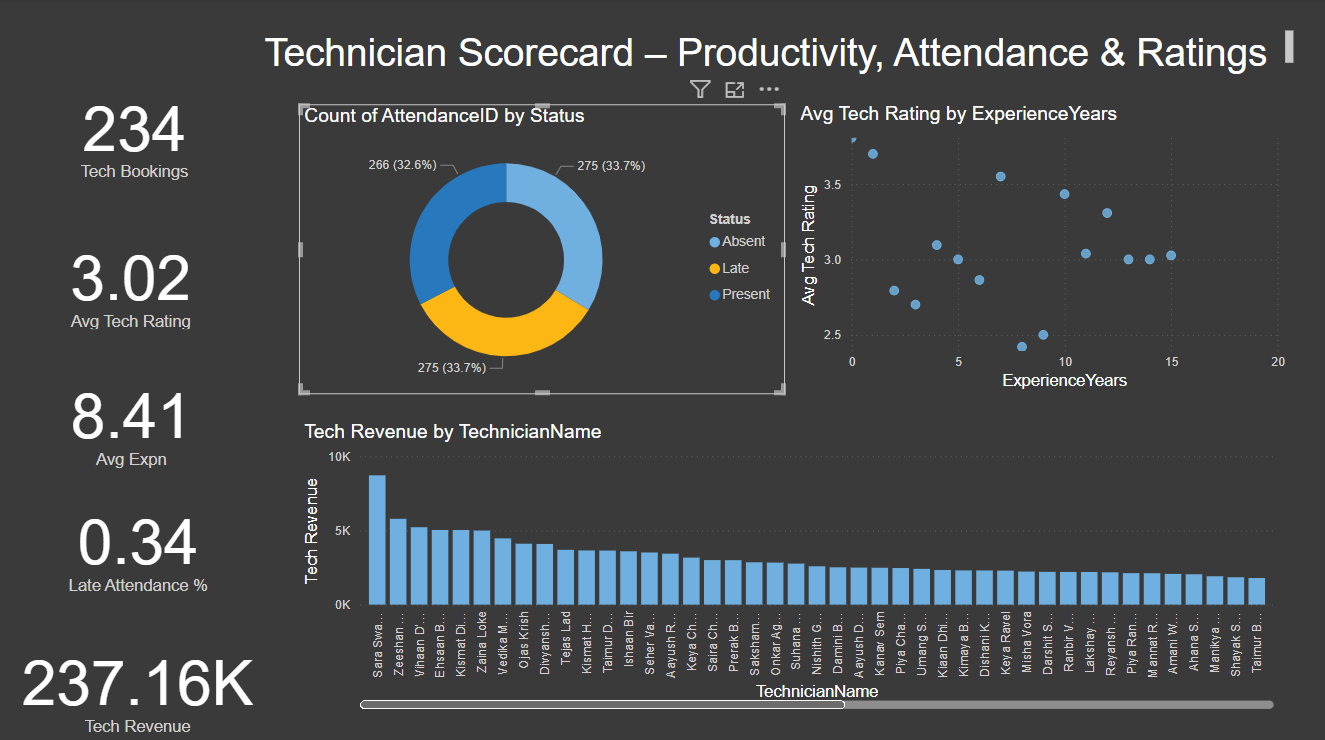

What the dashboard file says about the page in this screenshot:
{"tool":"powerbi","page":{"name":"Technician Scorecard","canvas":[1280,720],"ordinal":1},"visuals":[{"type":"textbox","box":[250.9,26.5,1003.8,53.1],"z":0},{"type":"card","fields":{"Values":["technicians.Avg Tech Rating"]},"box":[49.5,224.4,155.6,100.1],"z":1000},{"type":"card","fields":{"Values":["technicians.Avg Expn"]},"box":[37.4,355.9,181,103.8],"z":2000},{"type":"card","fields":{"Values":["attendance.Late Attendance %"]},"box":[30.2,476.5,208.7,106.2],"z":3000},{"type":"card","fields":{"Values":["technicians.Technician Bookings"]},"box":[43.4,79.6,174.9,101.3],"z":4000},{"type":"card","fields":{"Values":["technicians.Tech Revenue"]},"box":[16.9,610.5,234,109.8],"z":6000},{"type":"scatterChart","fields":{"X":["technicians.ExperienceYears"],"Y":["technicians.Avg Tech Rating"]},"box":[768.5,101.3,477.8,281.1],"z":7000},{"type":"donutChart","fields":{"Category":["attendance.Status"],"Y":["attendance.AttendanceID"]},"box":[289.5,102.5,469.3,279.9],"z":8000},{"type":"clusteredColumnChart","fields":{"Category":["technicians.TechnicianName"],"Y":["technicians.Tech Revenue"]},"box":[289.5,407.8,945.8,283.5],"z":9000}]}

Visuals, with their boxes in screenshot pixels (x1, y1, x2, y2), scaled from the page's 1280x720 canvas onto the 1325x740 screenshot:
textbox: locate(260, 27, 1299, 82)
card - technicians.Avg Tech Rating: locate(51, 231, 212, 334)
card - technicians.Avg Expn: locate(39, 366, 226, 472)
card - attendance.Late Attendance %: locate(31, 490, 247, 599)
card - technicians.Technician Bookings: locate(45, 82, 226, 186)
card - technicians.Tech Revenue: locate(17, 627, 260, 739)
scatterChart - technicians.ExperienceYears x technicians.Avg Tech Rating: locate(796, 104, 1290, 393)
donutChart - attendance.Status x attendance.AttendanceID: locate(300, 105, 785, 393)
clusteredColumnChart - technicians.TechnicianName x technicians.Tech Revenue: locate(300, 419, 1279, 711)
